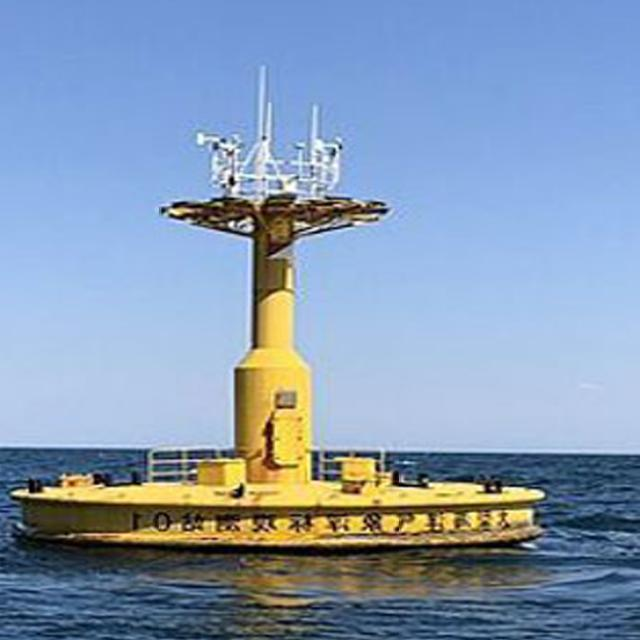buoy: (11, 105, 536, 548)
